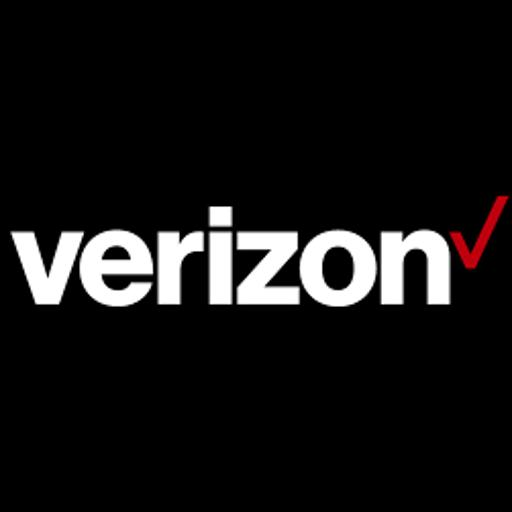Verizon Wireless: (0, 178, 512, 333)
